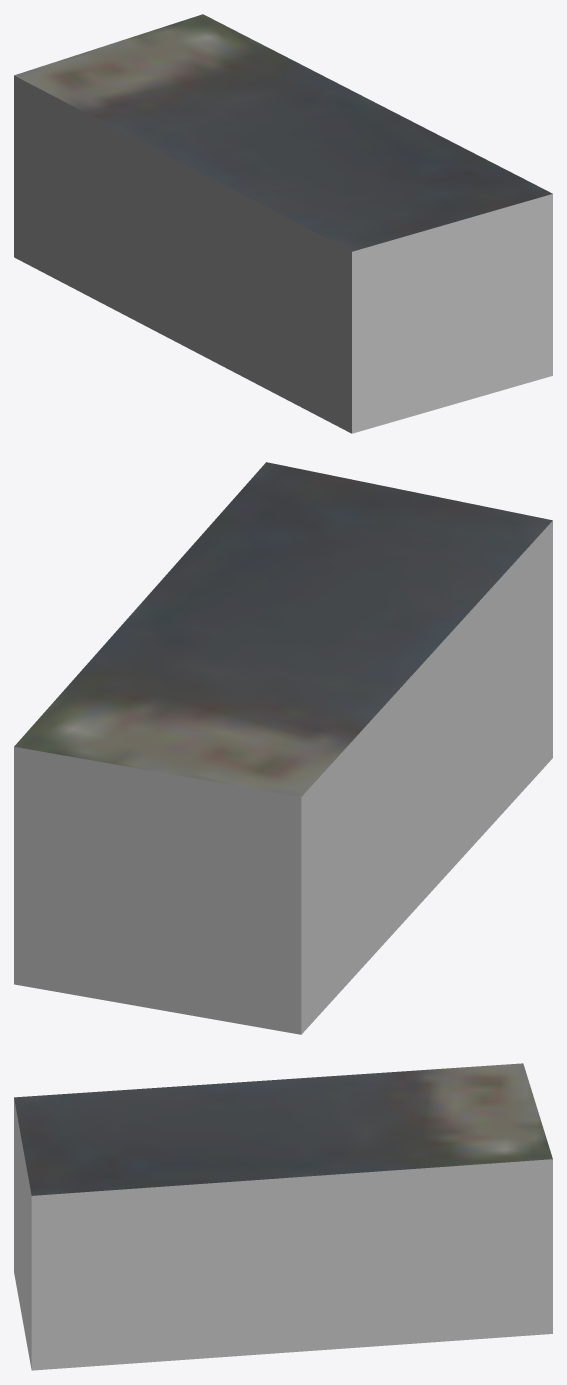
Rendered from DEBW_0010007TxdD.gltf.
3 views of the same model, one above another, from view 1: azimuth 30°, elevation 25°; view 2: azimuth 150°, elevation 25°; view 3: azimuth 270°, elevation 25° (orthographic). The views are drawn at different scales.
Parts seen in each view (by area): view 1: Z_UP; view 2: Z_UP; view 3: Z_UP.
Part boxes in pixels (x1,y1,x2,y2): Z_UP: (14, 14, 552, 433); Z_UP: (14, 462, 552, 1034); Z_UP: (14, 1063, 552, 1370).
Bounding box in the file's own units: 4.44 × 2.73 × 7.63.
2 materials, 1 textured.
